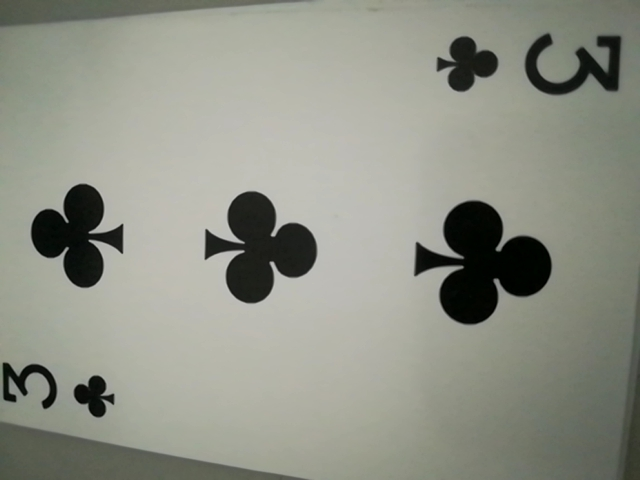mh 3: (431, 22, 620, 107), (4, 357, 119, 424)
